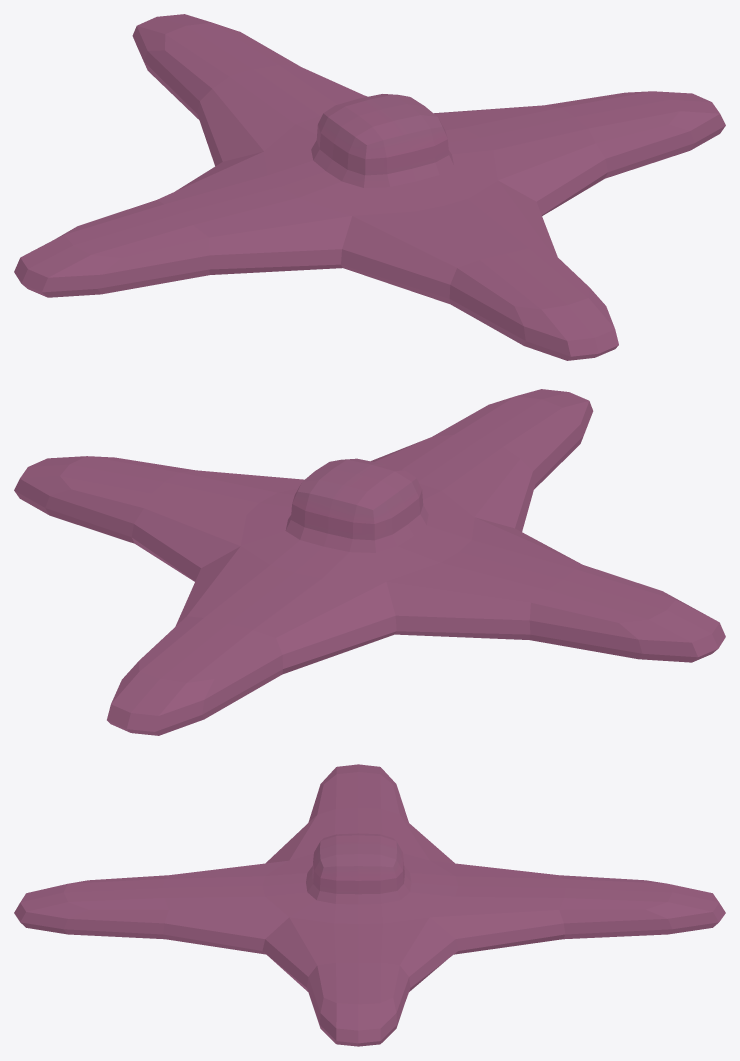
Rendered from warning.glb.
3 views of the same model, one above another, from view 1: azimuth 30°, elevation 25°; view 2: azimuth 150°, elevation 25°; view 3: azimuth 270°, elevation 25° (orthographic). The views are drawn at different scales.
Parts seen in each view (by area): view 1: Cube.003; view 2: Cube.003; view 3: Cube.003.
Part boxes in pixels (bbox=[...]): Cube.003: bbox=[14, 14, 725, 360]; Cube.003: bbox=[14, 389, 725, 735]; Cube.003: bbox=[14, 764, 725, 1046].
Bounding box in the file's own units: 4.35 × 0.5761 × 4.83.
1 material, 1 textured.
